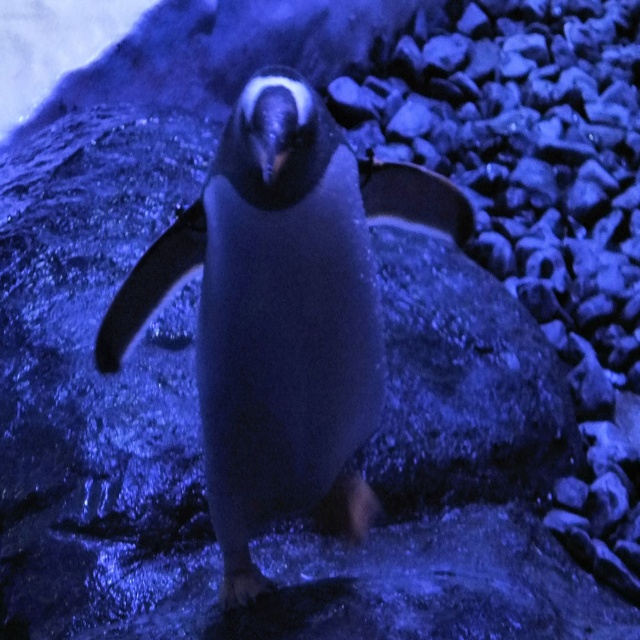Penguin: (91, 62, 427, 622)
